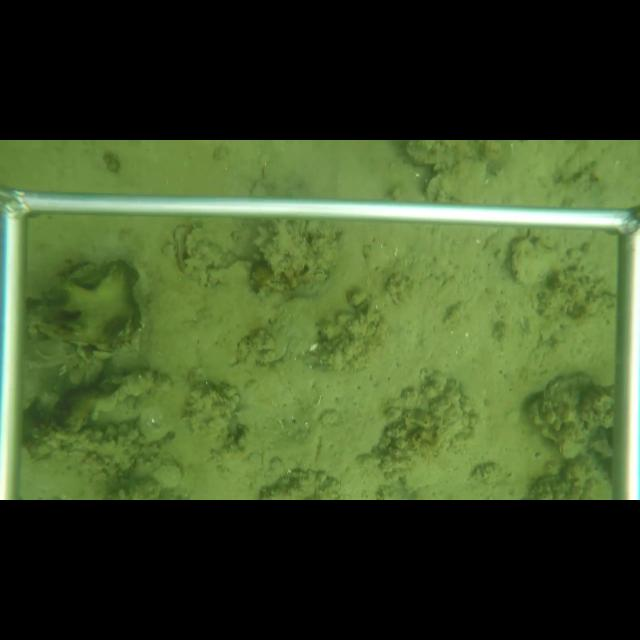Oyster-Closed: (508, 237, 566, 288), (422, 160, 488, 204), (173, 225, 196, 276), (183, 225, 209, 258)
